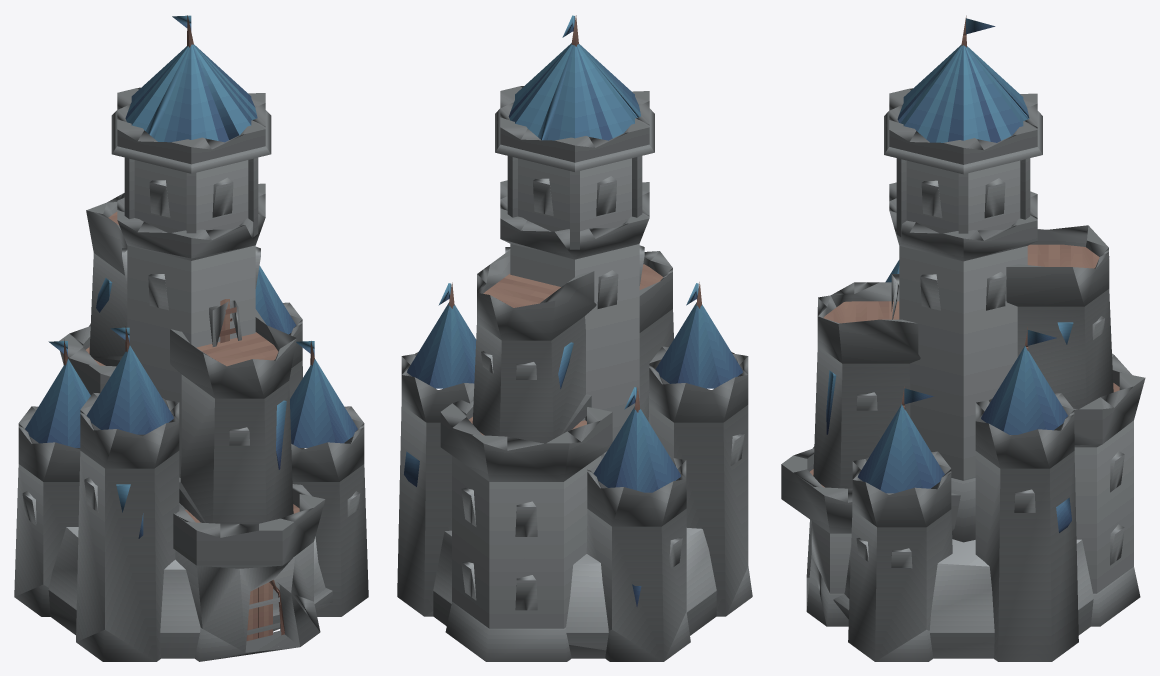
The model's file is prop-castle.glb.
3 views of the same model, side by side, from view 1: azimuth 30°, elevation 25°; view 2: azimuth 150°, elevation 25°; view 3: azimuth 270°, elevation 25° (orthographic).
Parts seen in each view (by area): view 1: building_castle_blue; view 2: building_castle_blue; view 3: building_castle_blue.
Part boxes in pixels (box(x1,y1,x2,y2)): building_castle_blue: box(14, 15, 368, 661); building_castle_blue: box(397, 15, 752, 661); building_castle_blue: box(781, 15, 1145, 661).
Bounding box in the file's own units: 1.94 × 3.98 × 2.26.
1 material, 1 textured.
